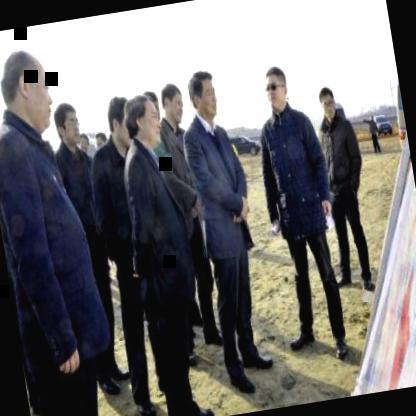head: (0, 39, 59, 134), (184, 66, 224, 128), (125, 90, 163, 150), (258, 61, 295, 117), (102, 92, 136, 150), (50, 97, 85, 153), (155, 76, 189, 129), (314, 81, 340, 123)
